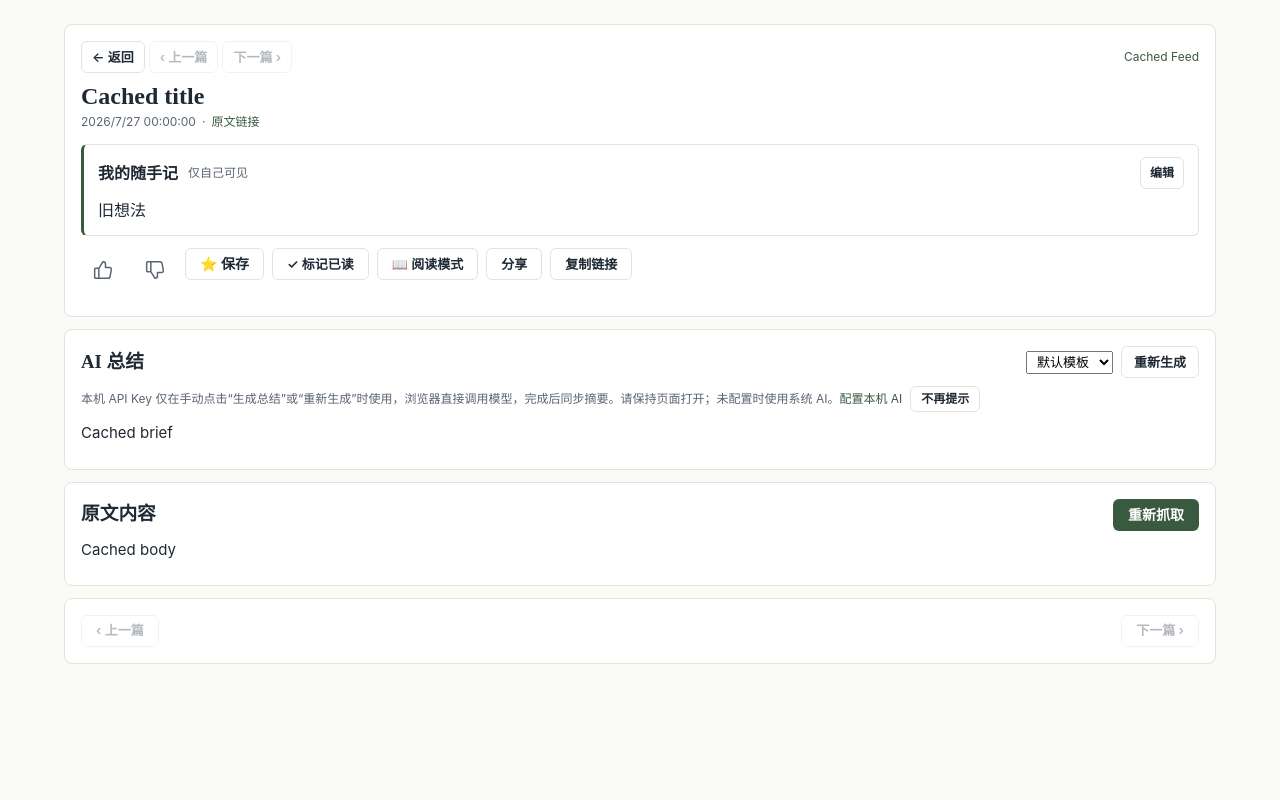
Test: ArticlePage immediate loading › keeps a newly saved note when an older refresh resolves later
The width and height of the screenshot is (1280, 800).
Click the button with aria-label "编辑随手记" at [1162, 173], box [1140, 157, 1184, 189]
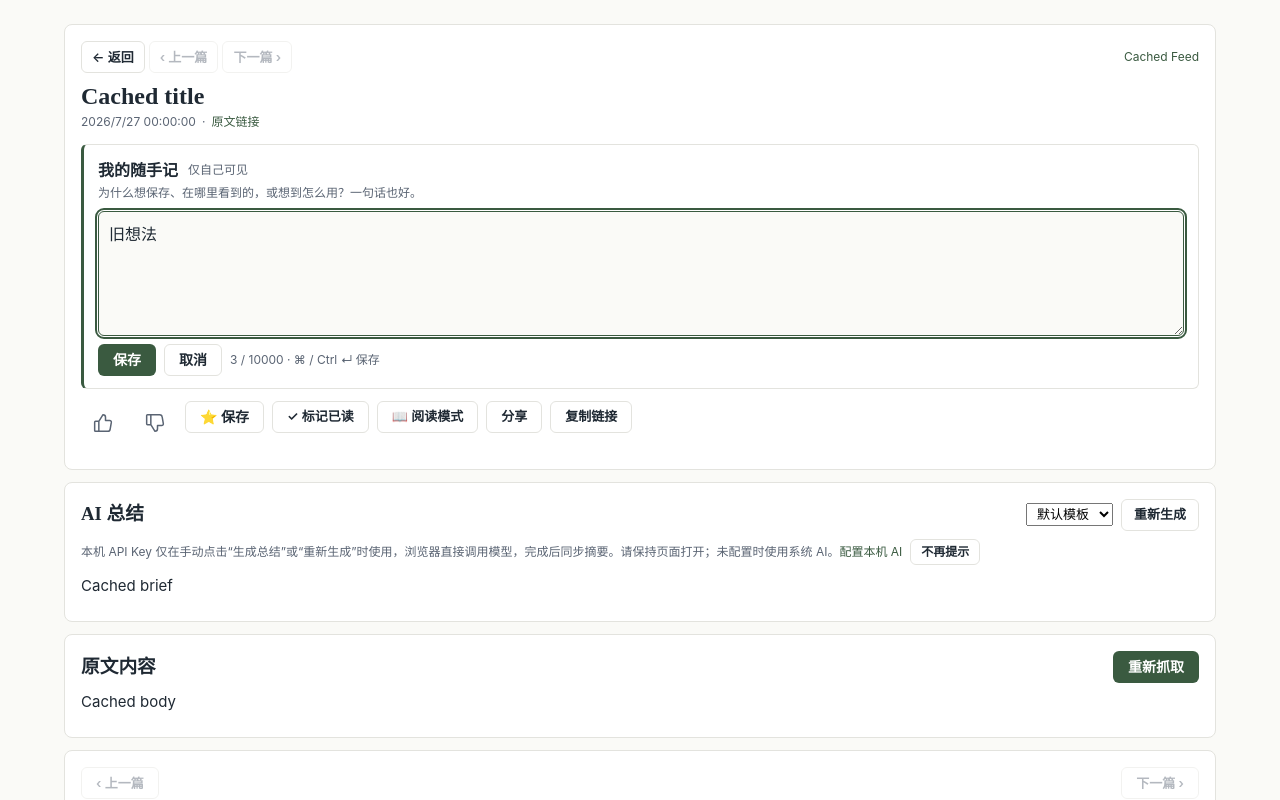
Replace the text in the text box labelled "我的随手记" with "新想法" at [641, 273], box [98, 211, 1184, 336]
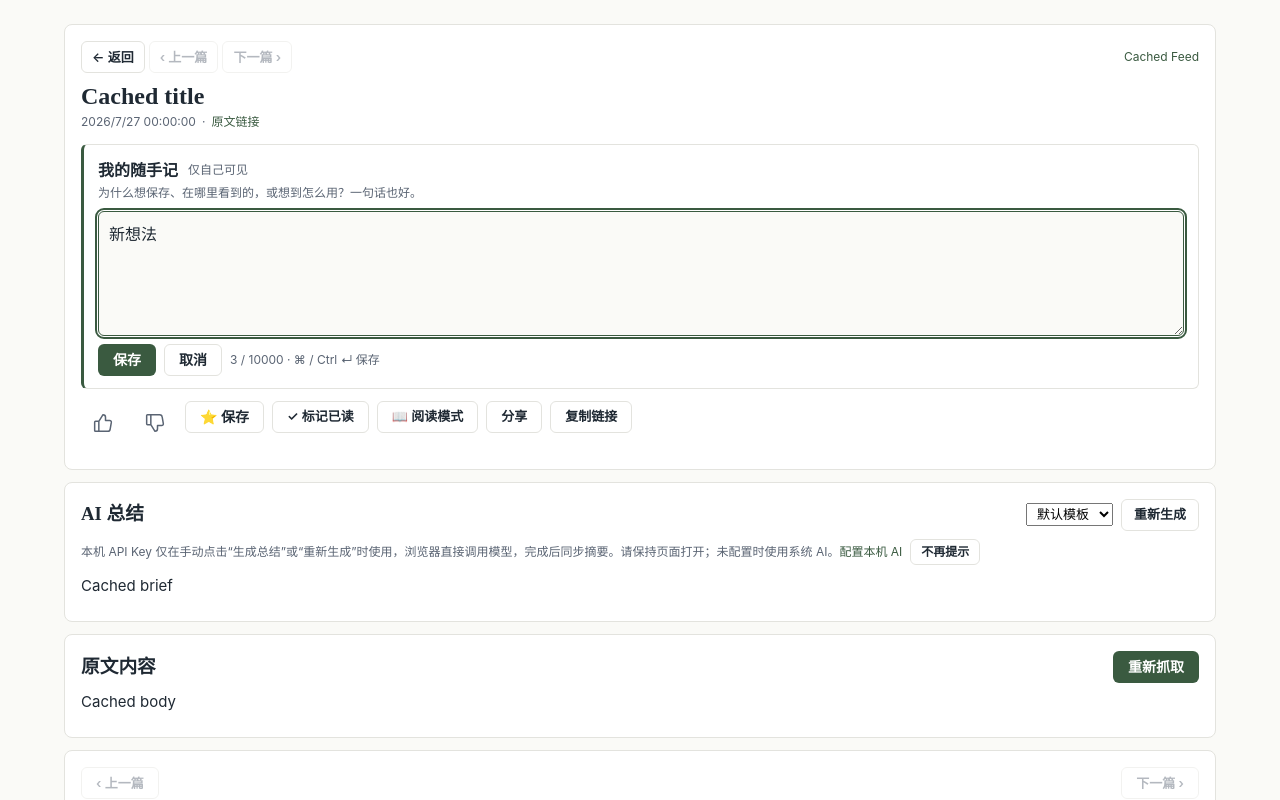
Click the button with aria-label "保存随手记" at [127, 360], box [98, 344, 156, 376]
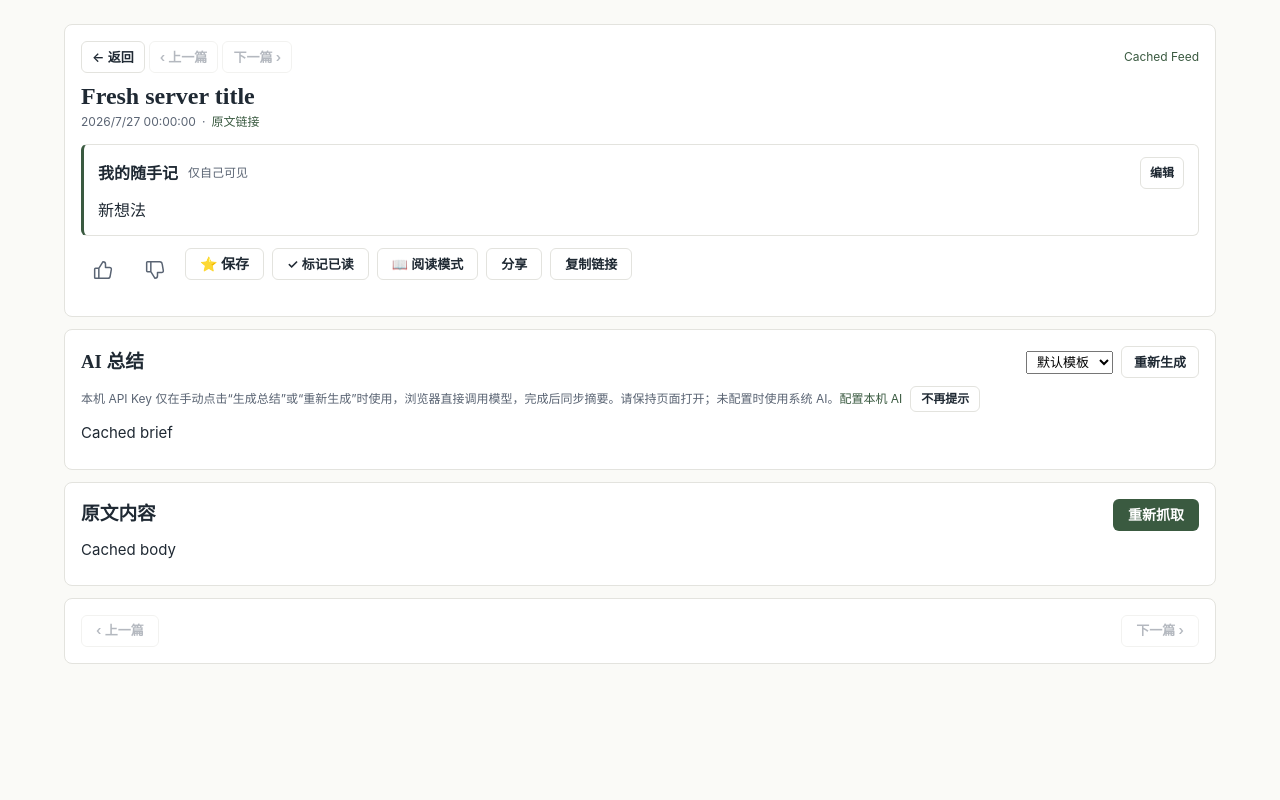
Expected: the text "旧想法" is not shown
Now the heading "Fresh server title" is shown, box [81, 83, 255, 109]
Now the text "新想法" is shown, box [98, 200, 146, 220]
